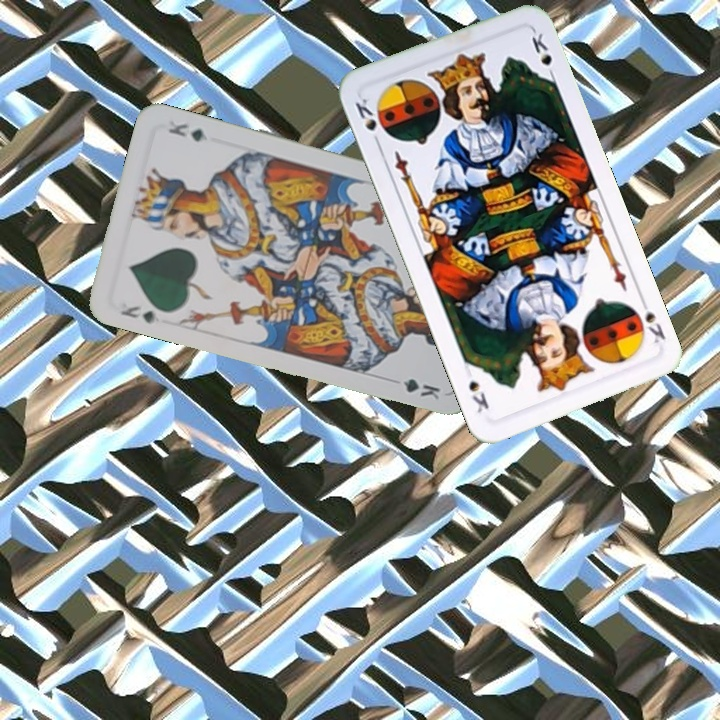GK: (116, 301, 163, 326)
SK: (351, 94, 390, 150), (636, 294, 668, 346)
